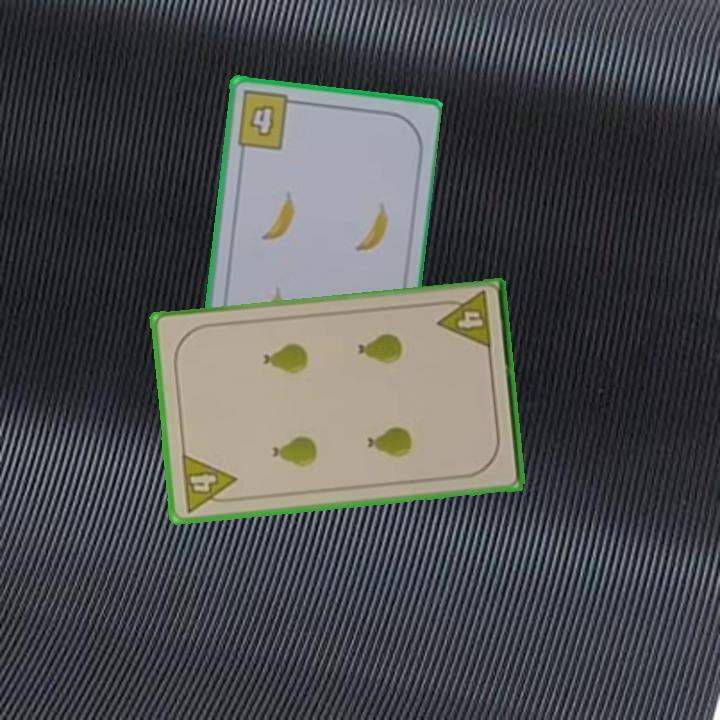4b: (233, 87, 301, 153)
4p: (177, 450, 241, 515), (433, 288, 495, 353)
